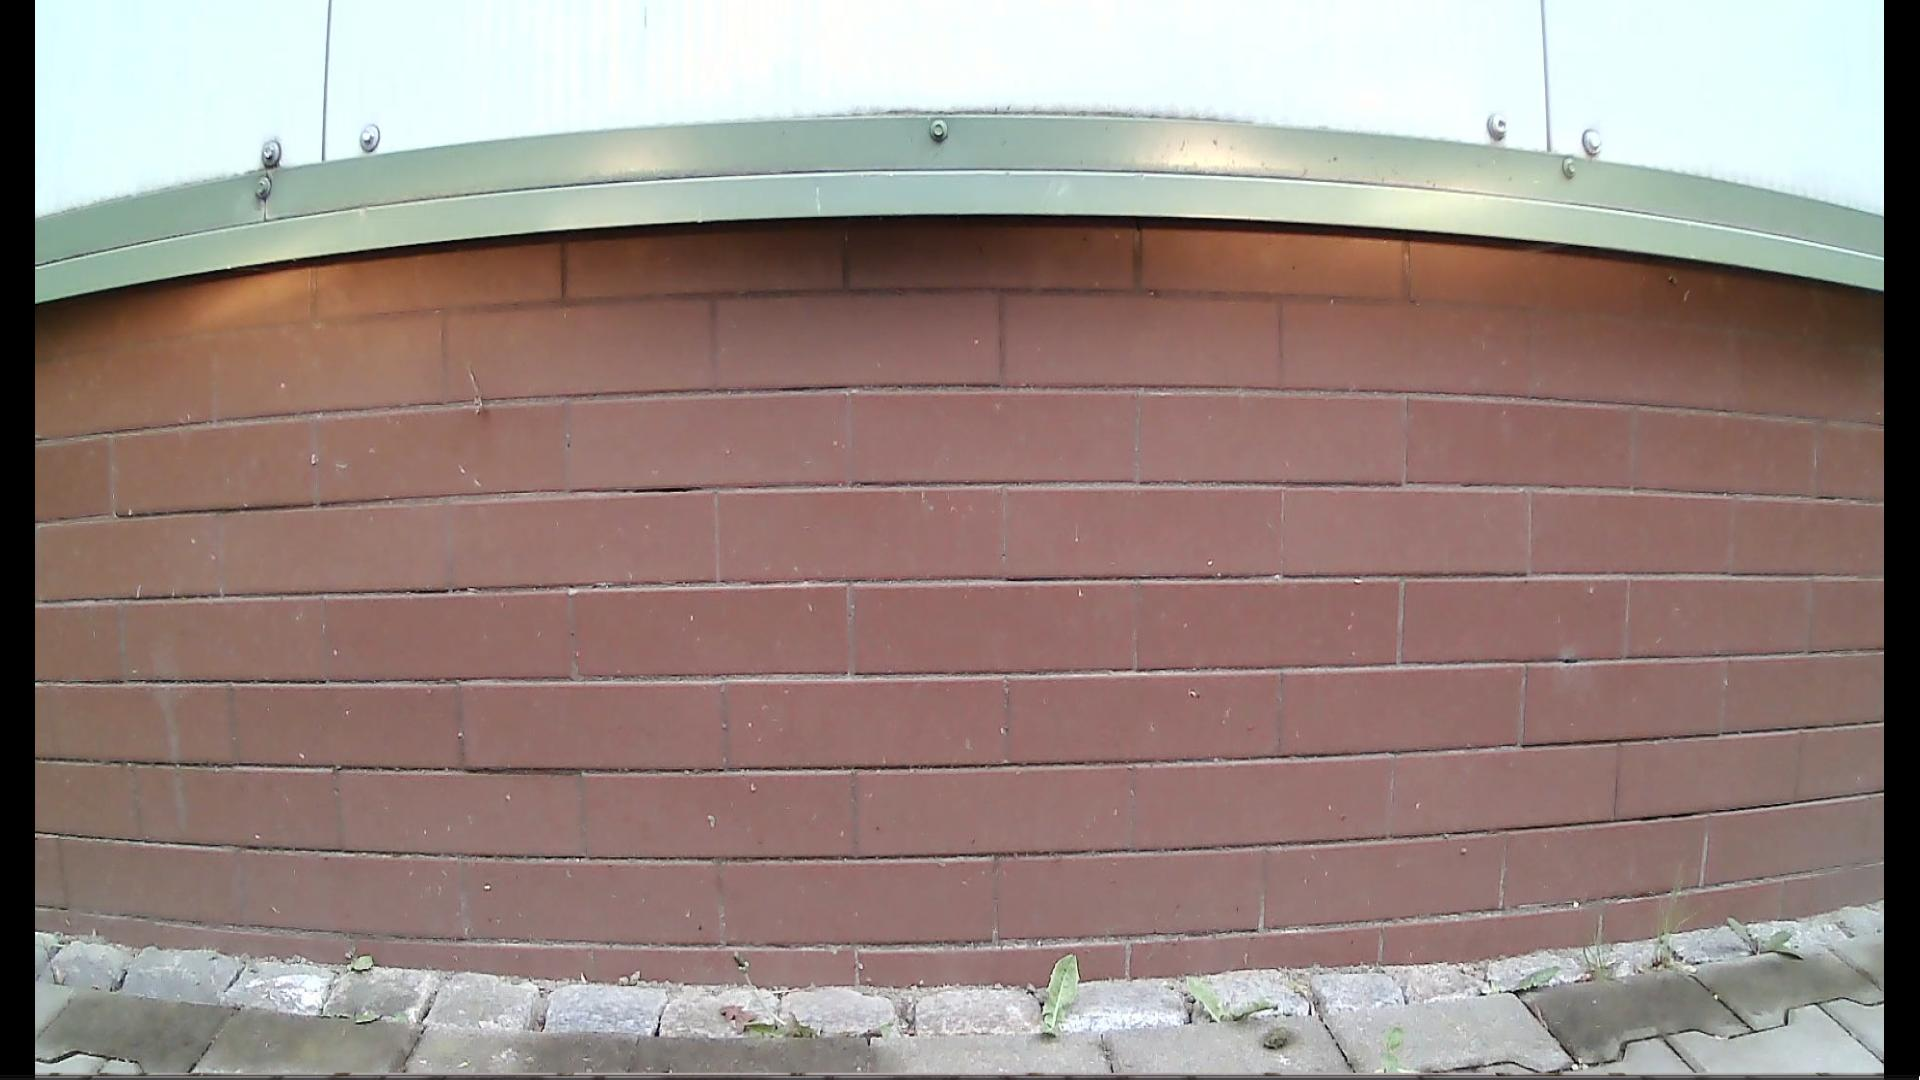wall: (37, 0, 1887, 911)
